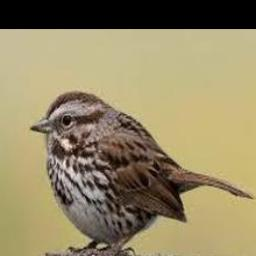Sparrow: (30, 91, 254, 256)
